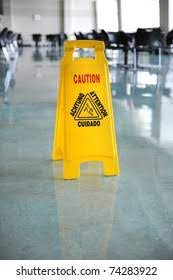wet caution sign: (41, 20, 131, 200)
